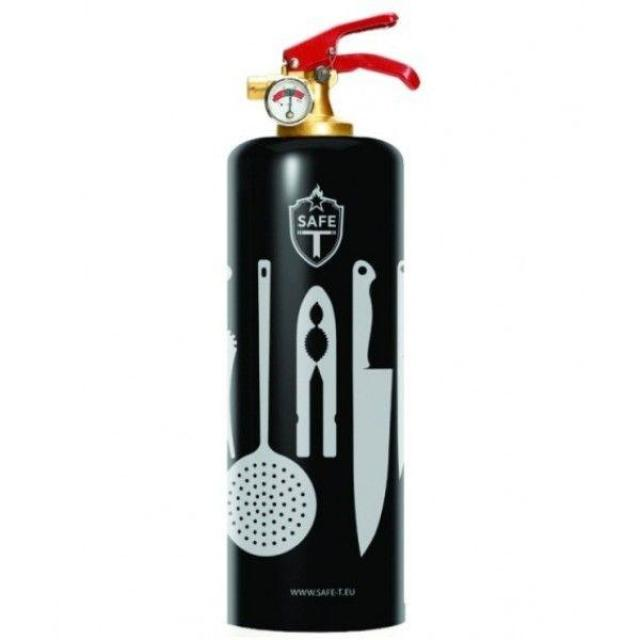fire_extinguisher: (214, 8, 423, 636)
